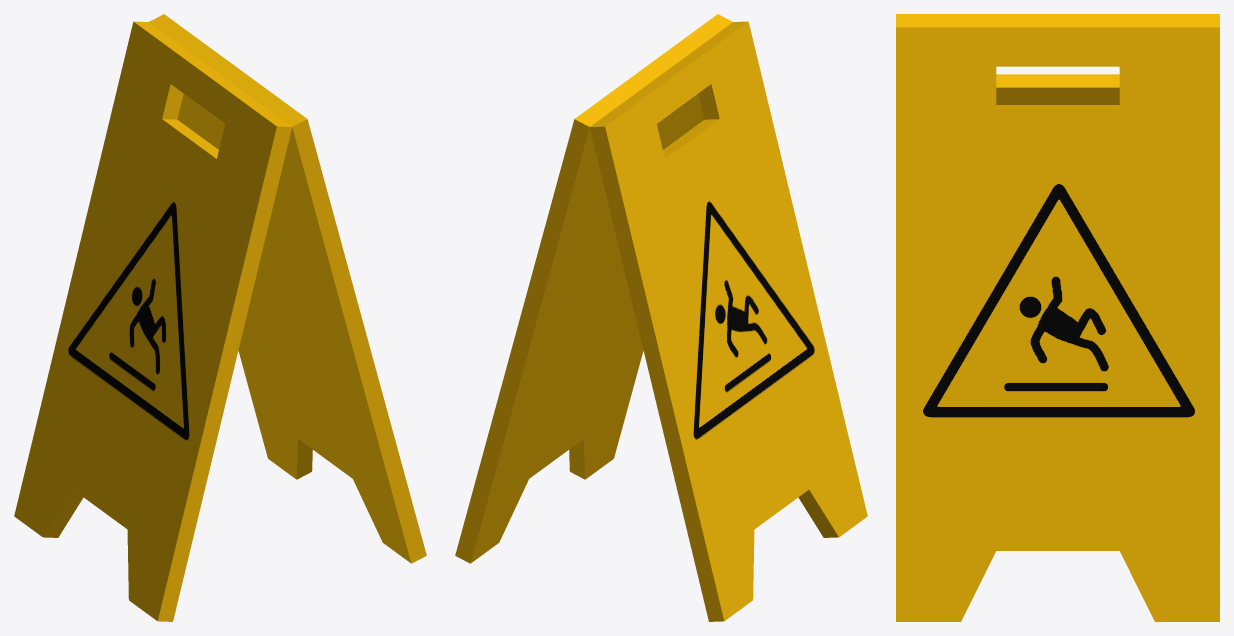
The model's file is sign wet floor.fbx.
The picture shows the model from 3 angles, left to right: view 1: azimuth 30°, elevation 25°; view 2: azimuth 150°, elevation 25°; view 3: azimuth 270°, elevation 25°; orthographic projection. The views are drawn at different scales.
Visible parts, largest first — view 1: Wet Floor Sign; view 2: Wet Floor Sign; view 3: Wet Floor Sign.
Boxes of the visible parts, left/top/right/bottom form: Wet Floor Sign: left=14, top=14, right=426, bottom=621; Wet Floor Sign: left=455, top=14, right=867, bottom=621; Wet Floor Sign: left=896, top=14, right=1219, bottom=621.
Bounding box in the file's own units: 42.36 × 70.67 × 39.11.
